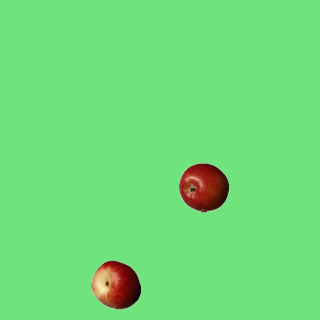Apple Braeburn: (178, 162, 228, 212)
Nectarine: (90, 259, 140, 309)
